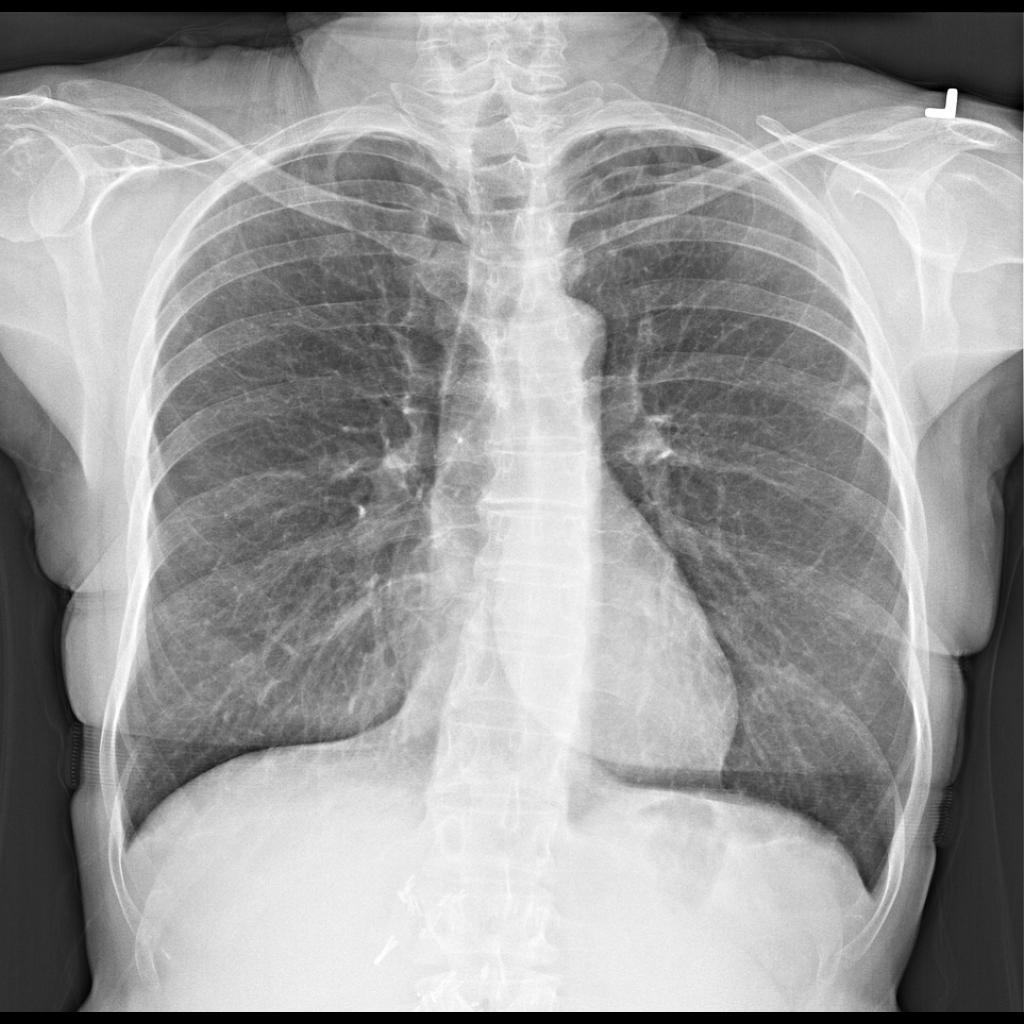Nodule: (834, 376, 879, 430)
